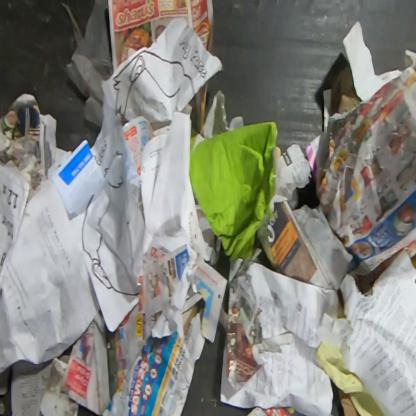cardboard: (189, 121, 281, 261), (337, 388, 360, 415), (191, 126, 205, 158)
soft_plastic: (60, 0, 115, 129)
